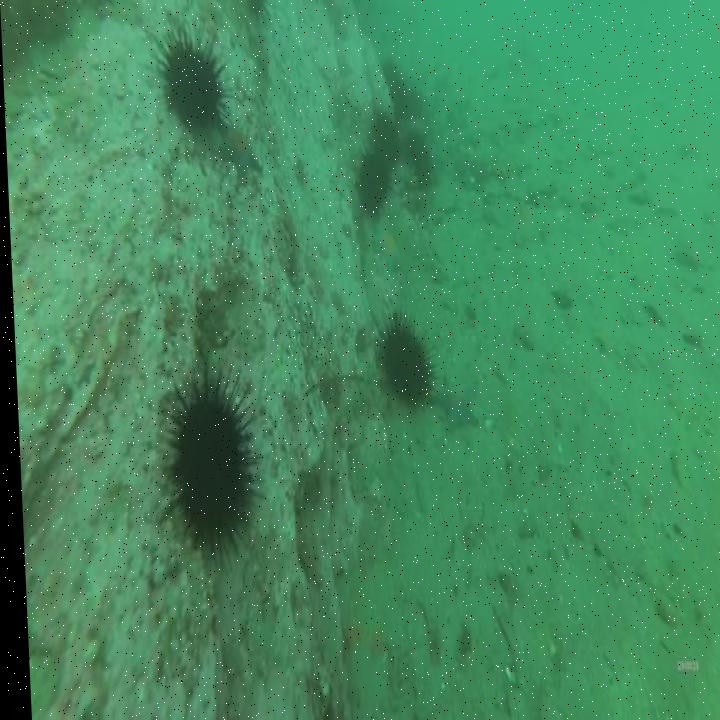echinus: (169, 400, 247, 537), (166, 44, 218, 128), (375, 320, 427, 404), (401, 126, 433, 192), (352, 153, 386, 211), (369, 110, 395, 155)
holothurian: (453, 148, 530, 183)
starfish: (218, 118, 260, 172), (434, 377, 473, 430), (372, 222, 405, 270)
